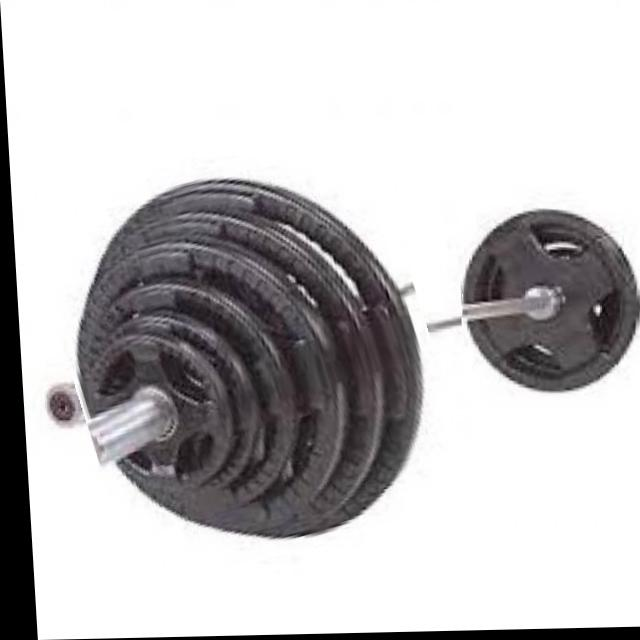barbell: (39, 142, 457, 577), (451, 196, 640, 414)
